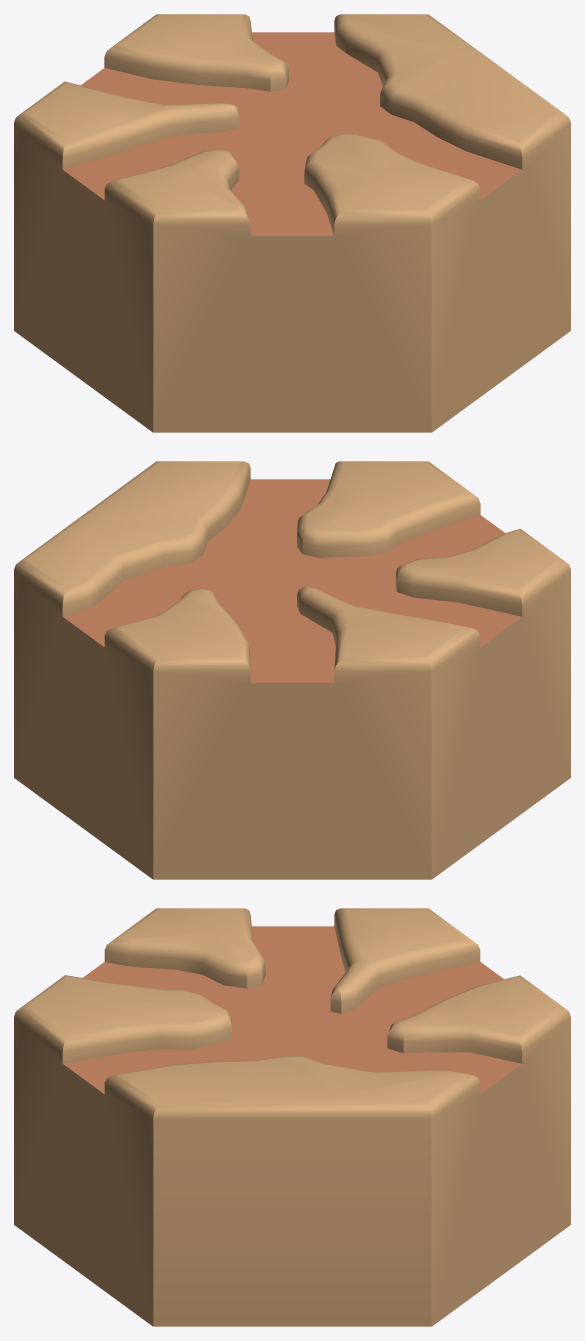
File: hex_sand_roadl.glb
3 views of the same model, one above another, from view 1: azimuth 30°, elevation 25°; view 2: azimuth 150°, elevation 25°; view 3: azimuth 270°, elevation 25° (orthographic).
Visible parts, largest first — view 1: hex_sand_roadL; view 2: hex_sand_roadL; view 3: hex_sand_roadL.
Part boxes in pixels (x1,y1,x2,y2): hex_sand_roadL: [14, 14, 570, 432]; hex_sand_roadL: [14, 461, 570, 879]; hex_sand_roadL: [14, 908, 570, 1326].
Bounding box in the file's own units: 8 × 4 × 9.24.
